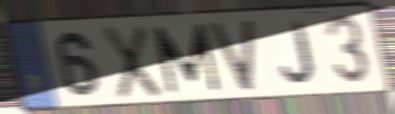3: (322, 11, 372, 90)
6: (54, 29, 102, 100)
J: (278, 19, 318, 86)
M: (150, 21, 224, 96)
V: (206, 17, 257, 94)
X: (100, 23, 164, 102)
